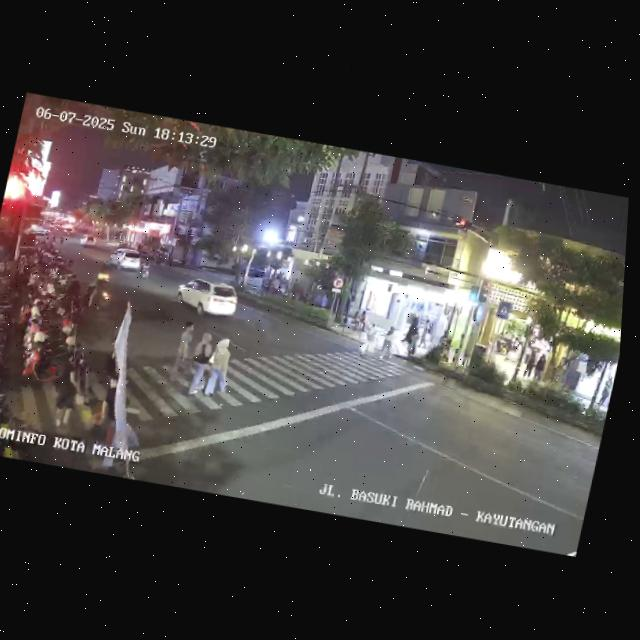car: (173, 274, 244, 323), (105, 246, 146, 274), (77, 231, 98, 250)
motorcycle: (136, 257, 153, 281)
person: (46, 346, 92, 437), (201, 333, 238, 406), (97, 374, 133, 448), (184, 330, 216, 398), (167, 319, 197, 383), (401, 313, 421, 346), (379, 326, 397, 360), (416, 318, 434, 352), (361, 320, 380, 352), (531, 351, 549, 384), (521, 347, 537, 380), (405, 326, 421, 355), (599, 379, 613, 409)
